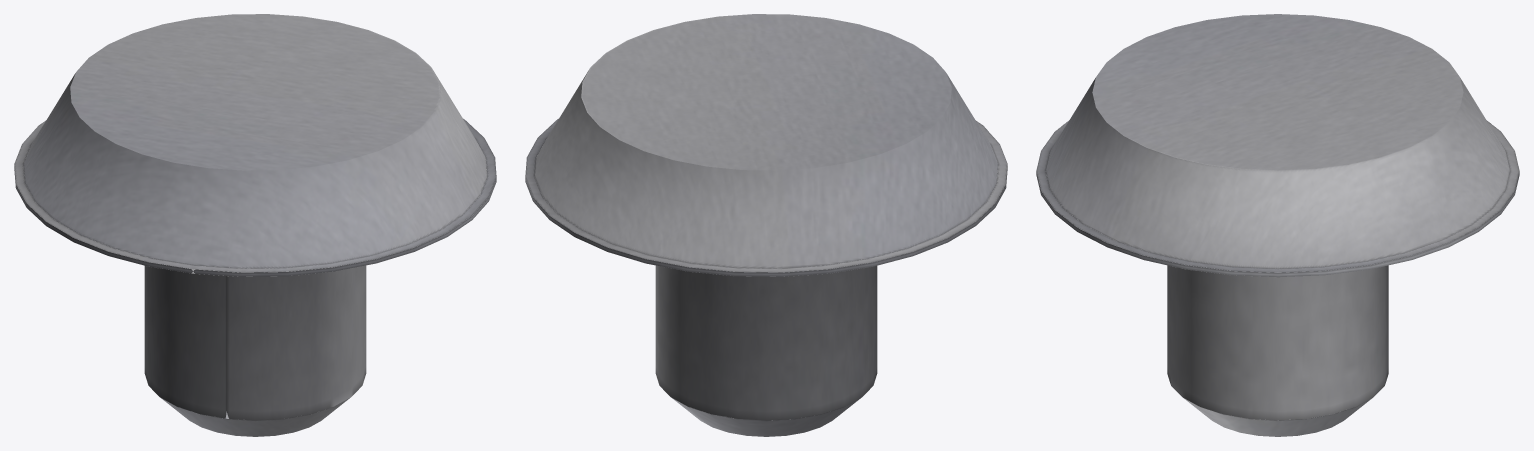
Rendered from xiaofangpentou2.FBX.
The picture shows the model from 3 angles, left to right: view 1: azimuth 30°, elevation 25°; view 2: azimuth 150°, elevation 25°; view 3: azimuth 270°, elevation 25°; orthographic projection.
Parts seen in each view (by area): view 1: xiaofangpentou_body; view 2: xiaofangpentou_body; view 3: xiaofangpentou_body.
Part boxes in pixels (x1=…): xiaofangpentou_body: x1=14, y1=14, x2=496, y2=436; xiaofangpentou_body: x1=525, y1=14, x2=1007, y2=436; xiaofangpentou_body: x1=1036, y1=14, x2=1519, y2=436.
Bounding box in the file's own units: 9.82 × 7 × 9.82.
